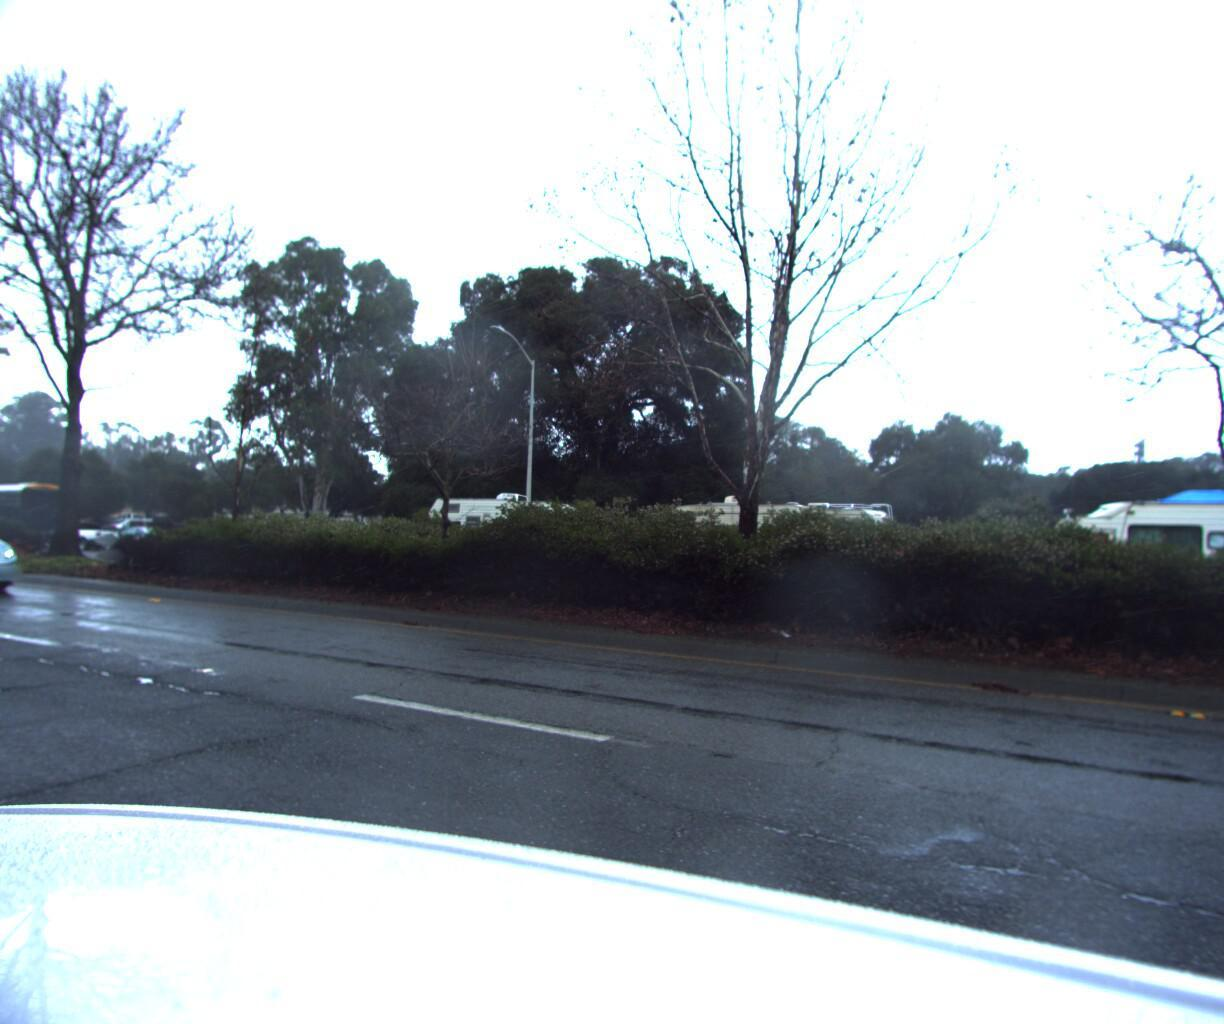bus: (0, 485, 78, 550)
car: (0, 508, 44, 607), (34, 523, 129, 558), (96, 528, 188, 562)
other_vehicle: (1020, 480, 1224, 654), (629, 491, 896, 607), (415, 492, 596, 586)
